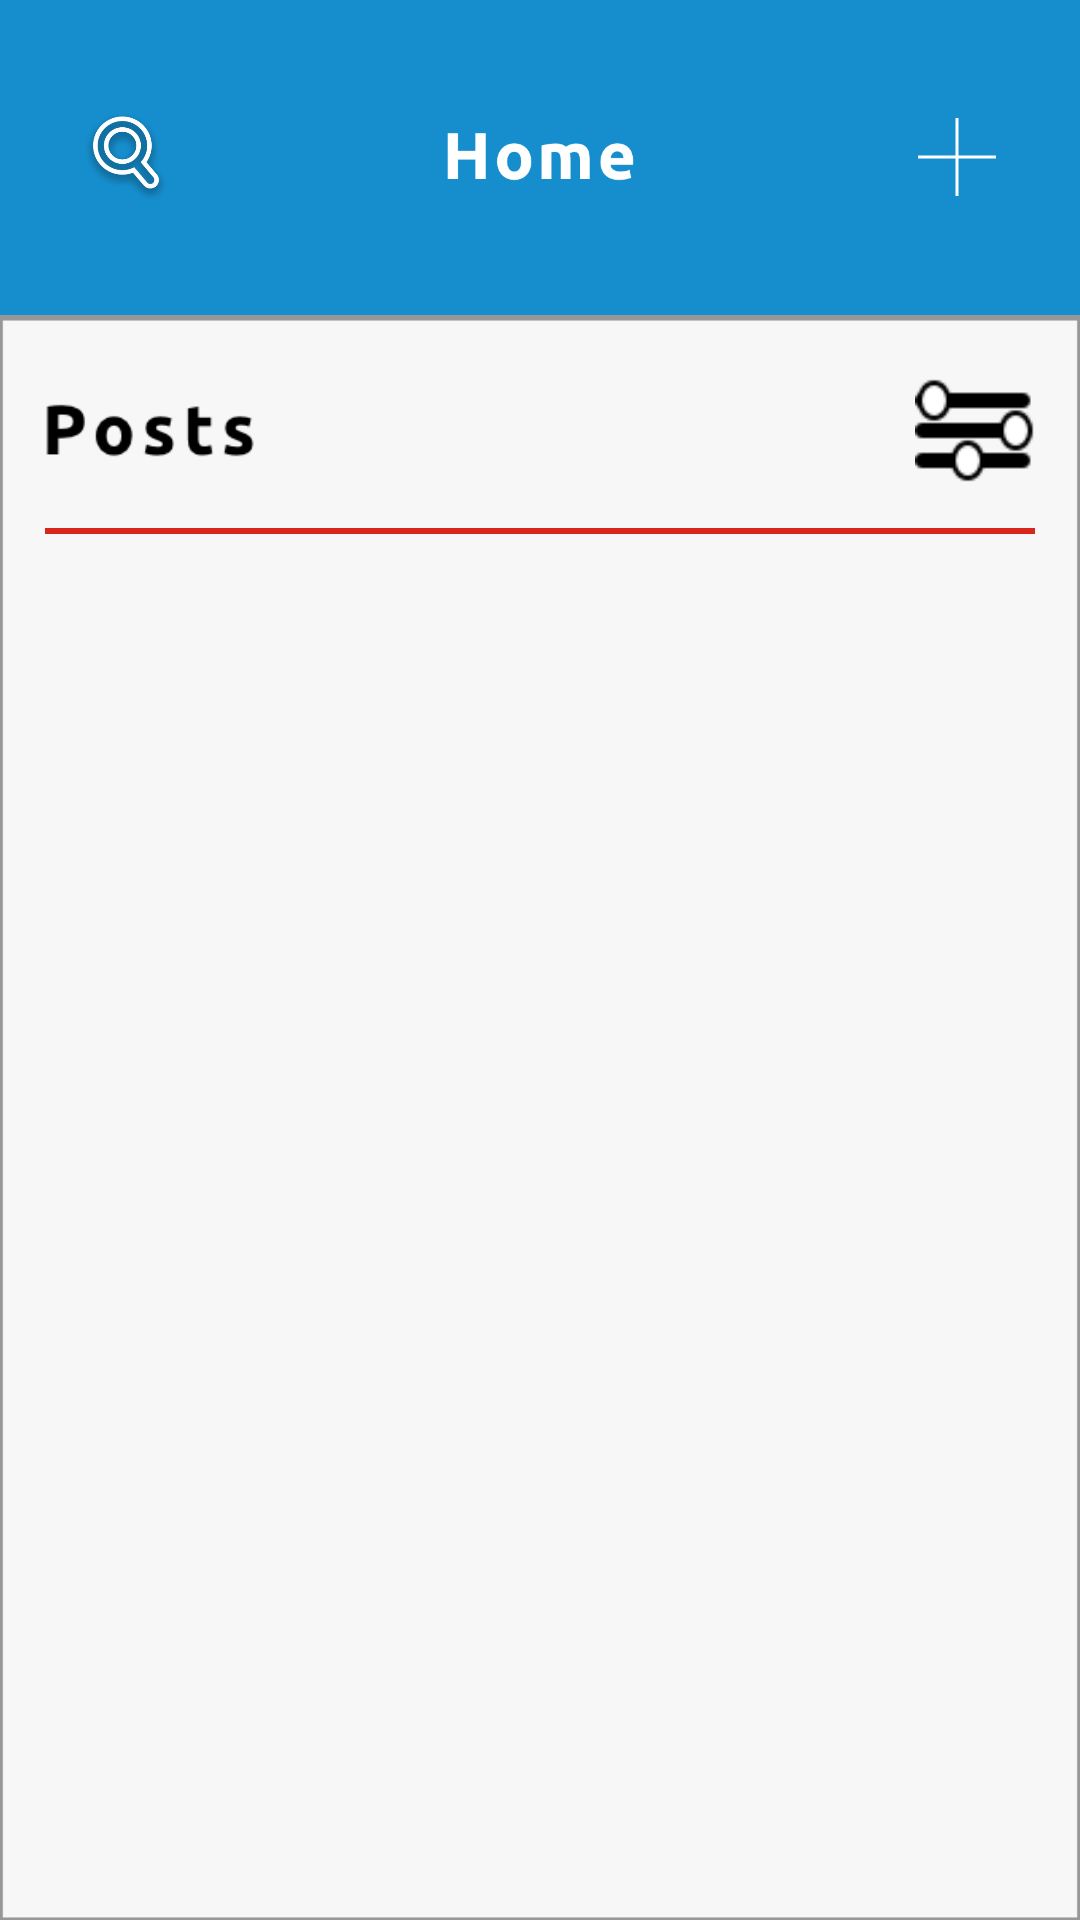

Screen size 1080×1920. Icon name, then its center in pixels as (x,y):
plus: (957,157)
search: (126,155)
sort: (974,430)
